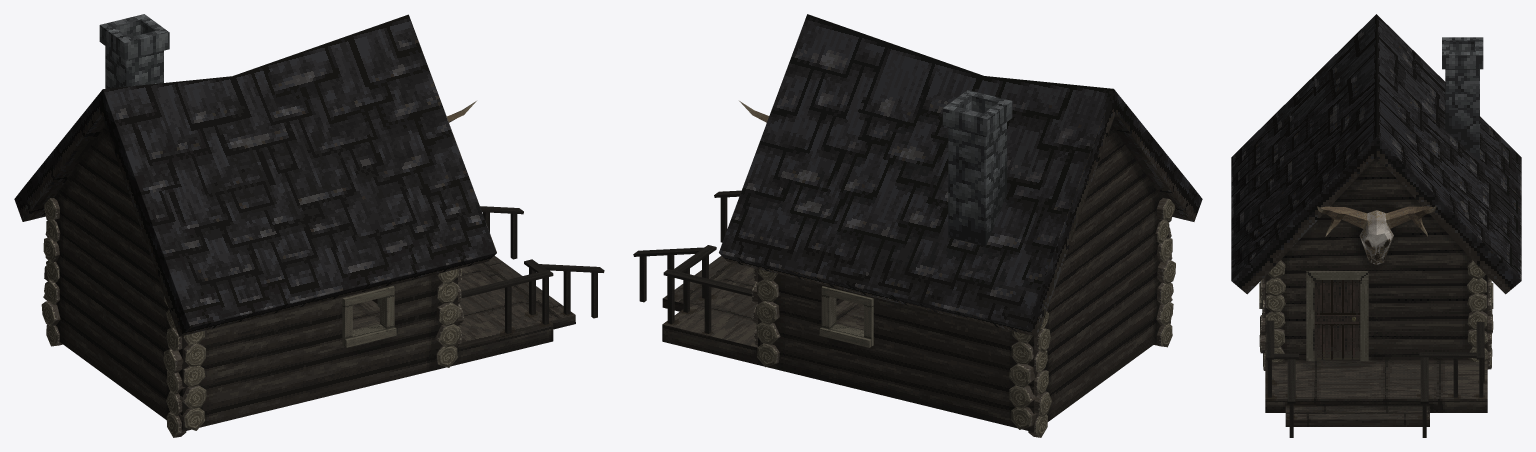
The model's file is Cabin2.glb.
3 renders of one model, left to right at view 1: azimuth 30°, elevation 25°; view 2: azimuth 150°, elevation 25°; view 3: azimuth 270°, elevation 25°, orthographic. The views are drawn at different scales.
Parts seen in each view (by area): view 1: Roof, Main Body, Chimney, WindowFrame 2; view 2: Roof, Main Body, Chimney, WindowFrame 1, Cube.017; view 3: Roof, Main Body, Chimney, Door, name0, DoorFrame, Cube.019, Cube.018, Cube.020, Cube.017, Log9, Log2 (+2 smaller).
Part boxes in pixels (x1,y1,x2,y2): Roof: [14, 14, 496, 336]; Main Body: [48, 126, 575, 431]; Chimney: [99, 14, 169, 88]; WindowFrame 2: [342, 286, 396, 347]; Roof: [719, 14, 1202, 336]; Main Body: [662, 125, 1168, 432]; Chimney: [942, 90, 1012, 246]; WindowFrame 1: [819, 286, 873, 347]; Cube.017: [663, 269, 751, 296]; Roof: [1231, 14, 1521, 294]; Main Body: [1265, 157, 1487, 426]; Chimney: [1442, 37, 1483, 159]; Door: [1314, 280, 1360, 359]; name0: [1317, 206, 1436, 264]; DoorFrame: [1306, 271, 1368, 360]; Cube.019: [1420, 357, 1428, 403]; Cube.018: [1287, 359, 1295, 403]; Cube.020: [1419, 352, 1477, 357]; Cube.017: [1476, 322, 1484, 359]; Log9: [1467, 293, 1487, 312]; Log2: [1265, 277, 1285, 296].
Bounding box in the file's own units: 29.43 × 20.12 × 19.92.
10 materials, 10 textured.
